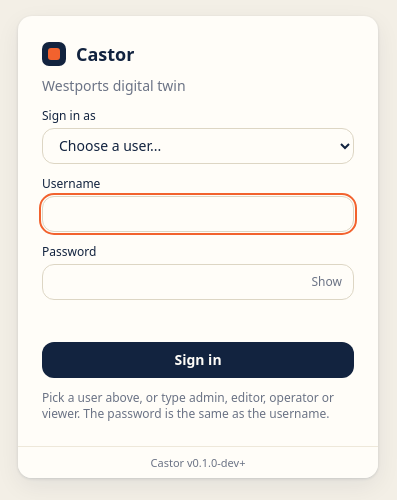
Test case: login page › demo login › lists the demo users and fills both fields when one is picked
This screenshot has width=397, height=500.
Expected: the text "Pick a user above" is shown, 42,388 -> 334,422
Select "Editor: edits layout drafts" in the dropdown named "Choose a demo user" at (198, 146), box 42,128 -> 354,164
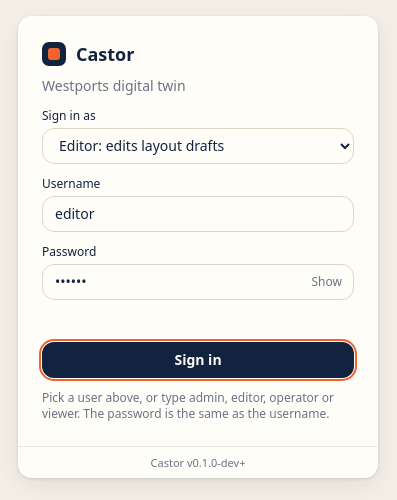
Expected: the field labelled "Username" holds "editor", 42,196 -> 354,232
Expected: the password field labelled "Password" holds "editor", 42,264 -> 354,300
